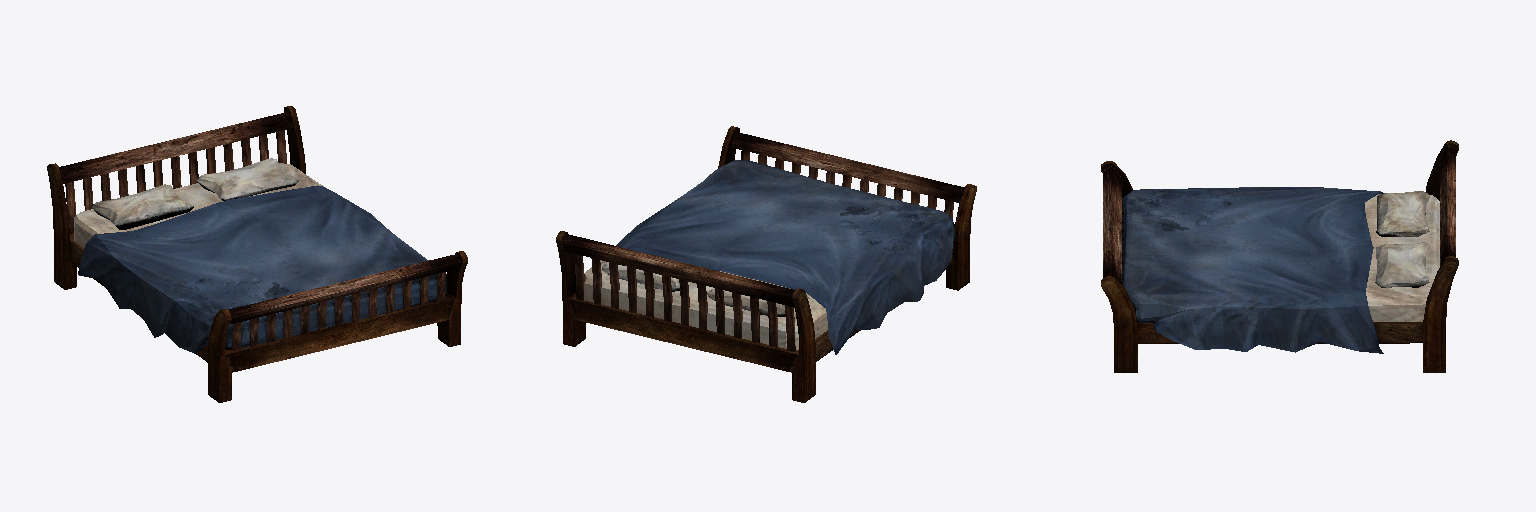
3 views of the same model, side by side, from view 1: azimuth 30°, elevation 25°; view 2: azimuth 150°, elevation 25°; view 3: azimuth 270°, elevation 25° (orthographic).
Parts seen in each view (by area): view 1: subqueenbed; view 2: subqueenbed; view 3: subqueenbed.
Part boxes in pixels (bbox=[...]): subqueenbed: bbox=[47, 106, 467, 402]; subqueenbed: bbox=[556, 126, 976, 402]; subqueenbed: bbox=[1101, 140, 1458, 372].
Size of the model in its own units: 142 by 61.92 by 175.
Materials: 1 (1 with a texture image).